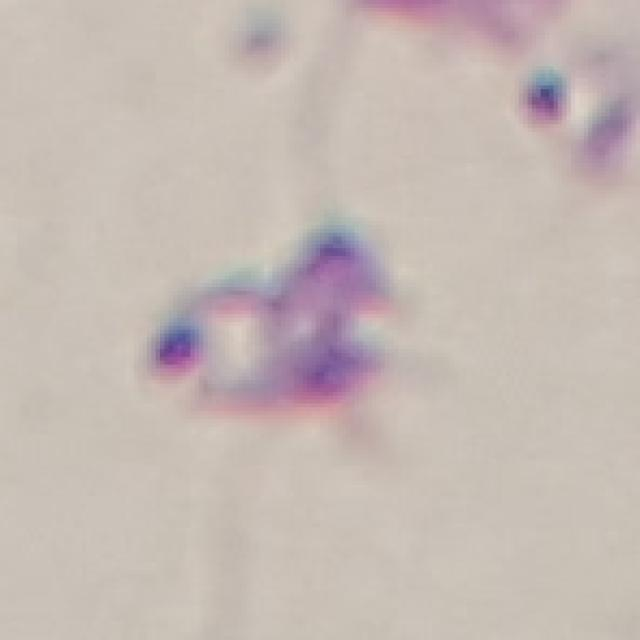non-sperm: (142, 227, 390, 420)
